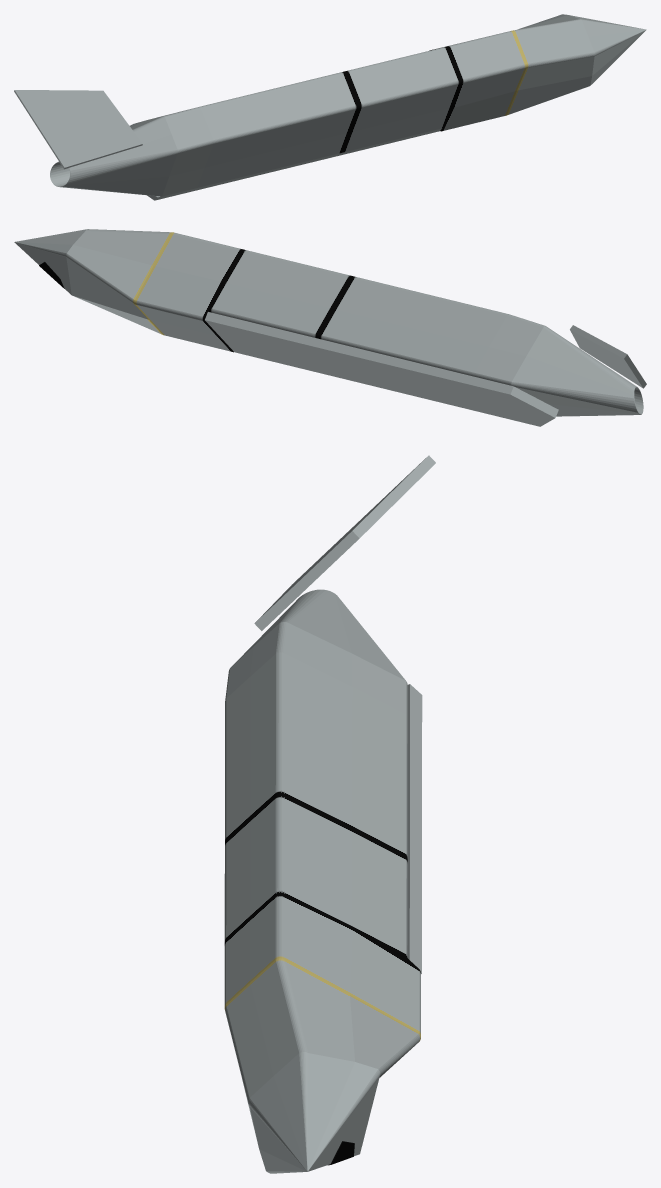
File: b2aagm1586.glb
3 views of the same model, one above another, from view 1: azimuth 30°, elevation 25°; view 2: azimuth 150°, elevation 25°; view 3: azimuth 270°, elevation 25° (orthographic). The views are drawn at different scales.
Parts seen in each view (by area): view 1: 立方体.016; view 2: 立方体.016; view 3: 立方体.016.
Boxes of the visible parts, x1,y1,x2,y2 form: 立方体.016: [14, 14, 646, 200]; 立方体.016: [14, 229, 646, 426]; 立方体.016: [224, 455, 435, 1173].
Bounding box in the file's own units: 5.42 × 1 × 0.8245.
Materials: 4 (1 with a texture image).
